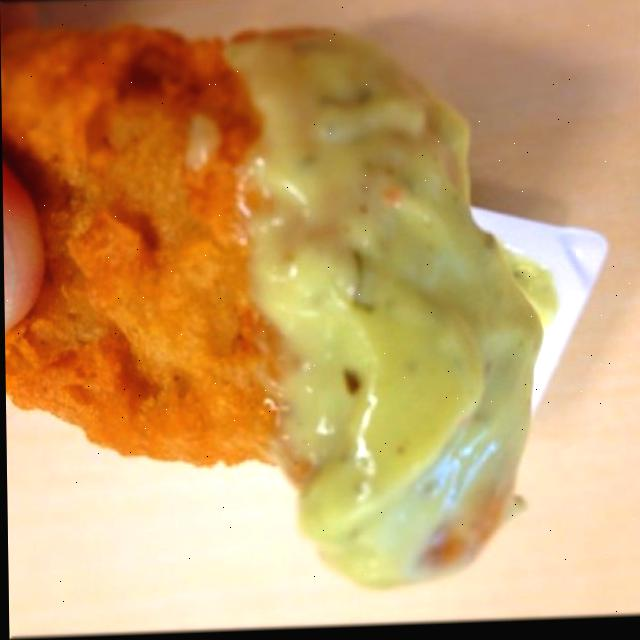鸡肉料理 含炸鸡: (8, 2, 591, 608)
